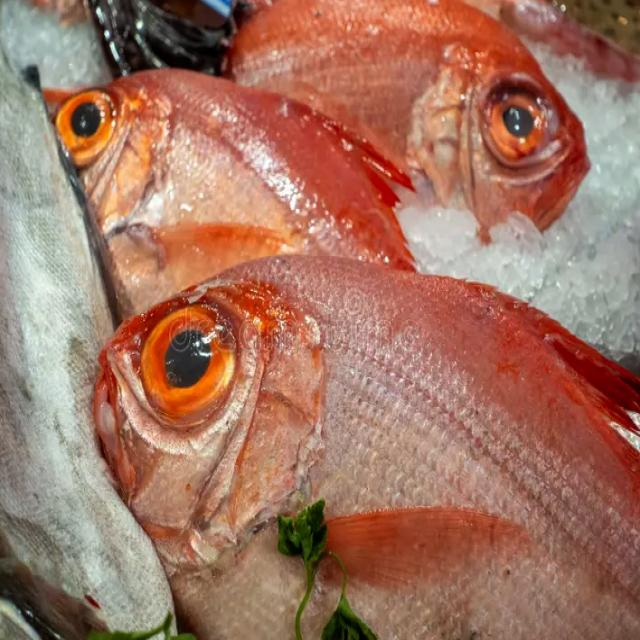Red Snapper: (93, 254, 640, 640)
